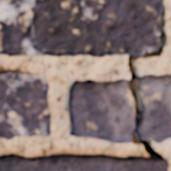brick: (0, 0, 162, 56), (0, 70, 50, 139), (0, 154, 168, 170)
broken_brick: (69, 78, 133, 144), (140, 74, 170, 143)
crack: (127, 2, 170, 168), (0, 20, 7, 32)
